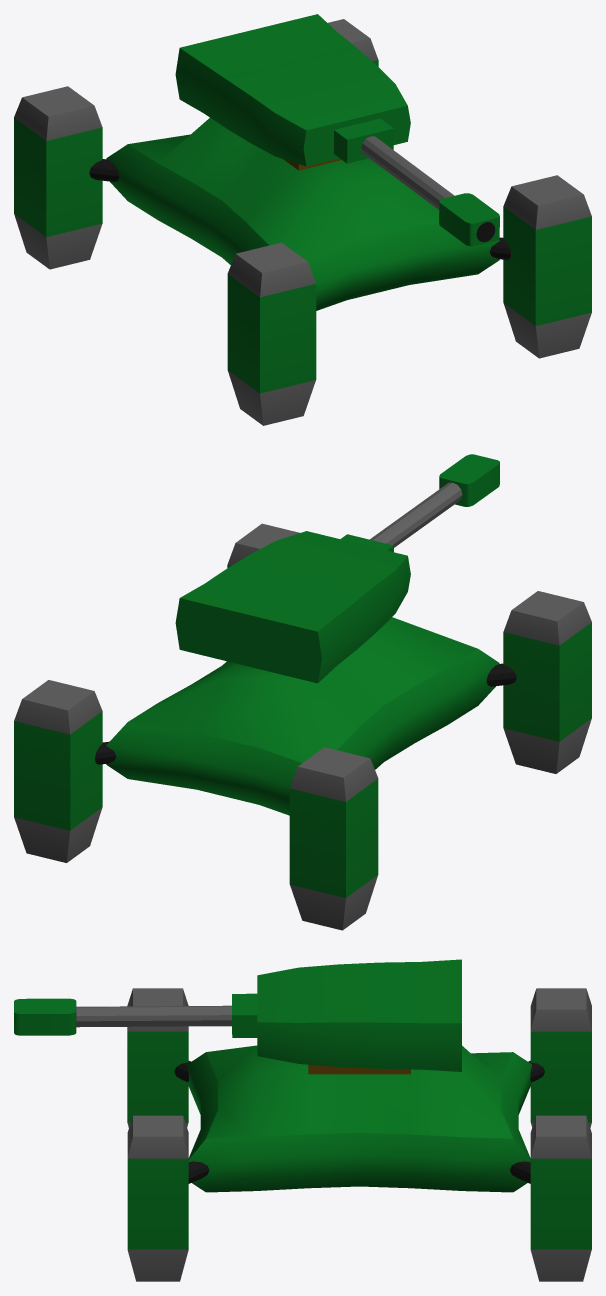
Rendered from hoverTank.fbx.
3 views of the same model, one above another, from view 1: azimuth 30°, elevation 25°; view 2: azimuth 150°, elevation 25°; view 3: azimuth 270°, elevation 25° (orthographic). The views are drawn at different scales.
Visible parts, largest first — view 1: pCube2 (×4), Hover_Craft, Turret, Gun; view 2: pCube2 (×4), Hover_Craft, Turret, Gun; view 3: Hover_Craft, pCube2 (×4), Turret, Gun.
Boxes of the visible parts, bbox=[...] form: pCube2 (×4): bbox=[14, 19, 591, 425]; Hover_Craft: bbox=[106, 118, 499, 310]; Turret: bbox=[175, 14, 410, 166]; Gun: bbox=[334, 118, 499, 246]; pCube2 (×4): bbox=[14, 523, 591, 930]; Hover_Craft: bbox=[106, 617, 499, 815]; Turret: bbox=[175, 531, 410, 683]; Gun: bbox=[340, 454, 499, 552]; Hover_Craft: bbox=[187, 1045, 531, 1192]; pCube2 (×4): bbox=[127, 988, 591, 1281]; Turret: bbox=[257, 959, 461, 1071]; Gun: bbox=[14, 993, 257, 1037].
Size of the model in its own units: 3.54 by 2.34 by 5.64.
